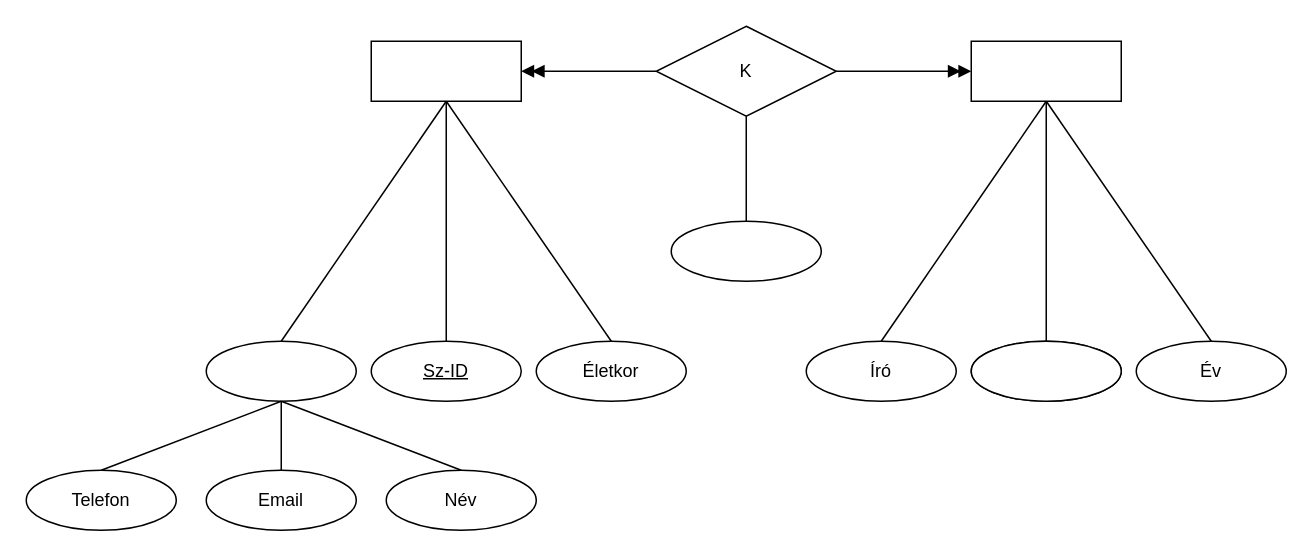
The diagram is 1313 pixels wide and 557 high, and some of its shapes have lost their labels. The centre of each missing label's shape, as x and y in pixels:
Elérhetőség: the point at 280,370
Rendező: the point at 1045,370
Színdarab: the point at 1045,70
Színház: the point at 745,250
Színész: the point at 445,70
